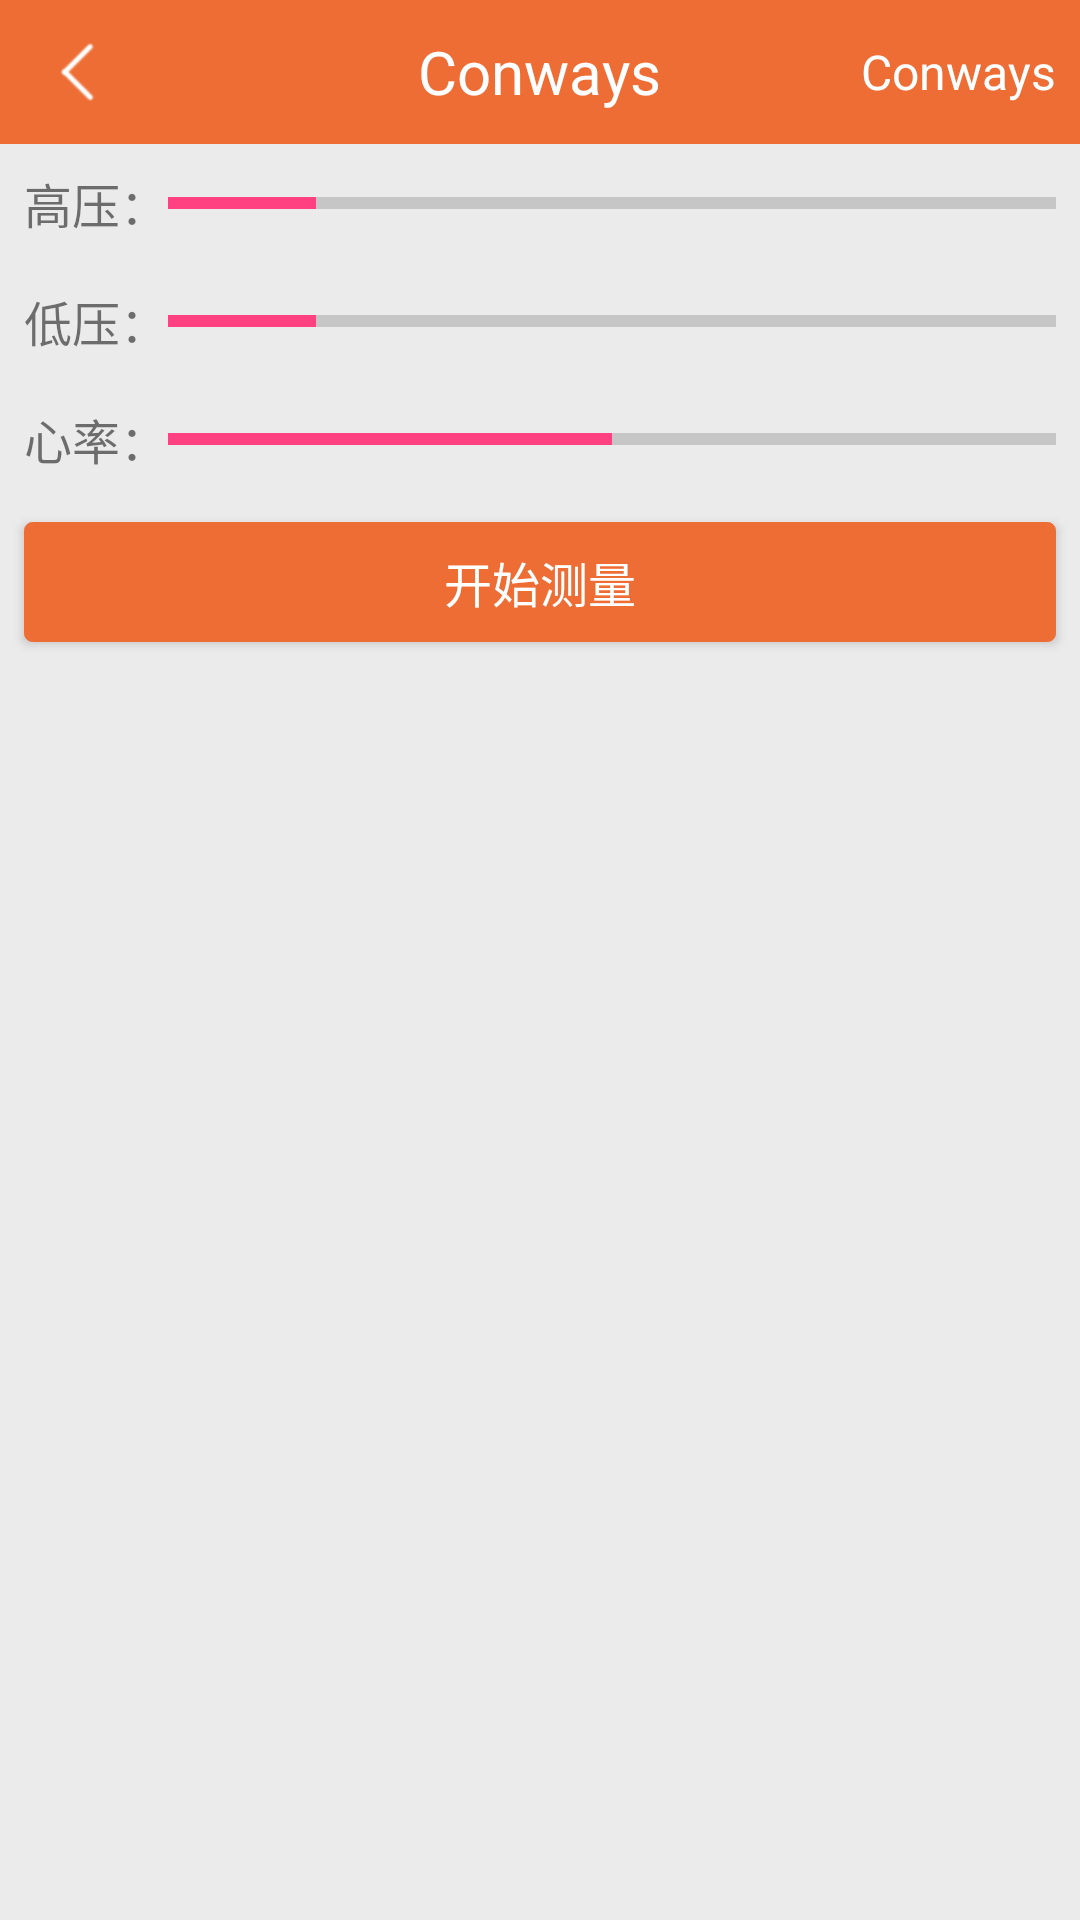

Screen size 1080px x 1920px. Icon name, then its box in pixels as (x1, y1, x2, y2):
arrow back: (61, 43, 94, 101)
